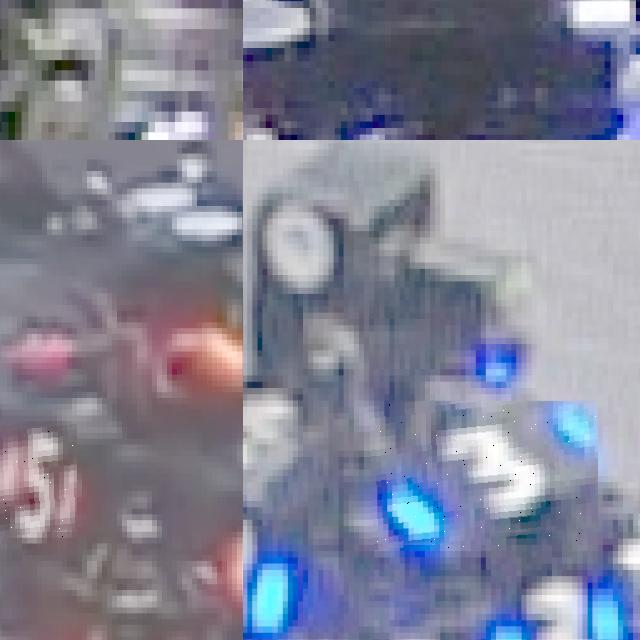B3: (364, 401, 598, 551), (475, 566, 623, 640), (243, 485, 303, 640)
R5: (0, 421, 77, 537)
